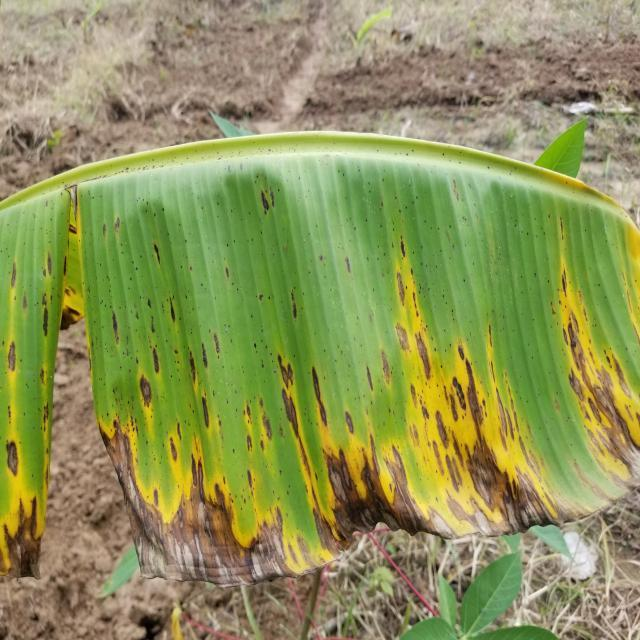Early_rust: (0, 113, 640, 587)
